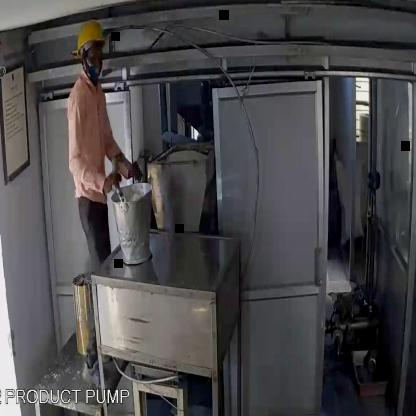helmet: (74, 16, 112, 63)
